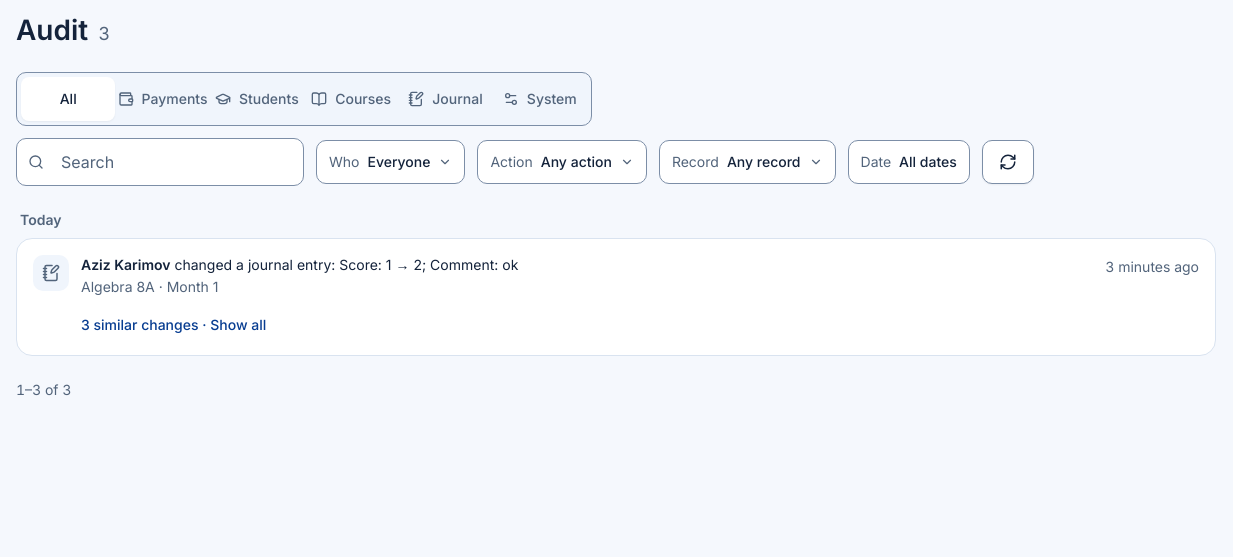
Audit duplicate grouping › shows one row with a similar-changes count and expands to every event
Check: the number of buttons "Aziz Karimov" is 1, box [21, 243, 1211, 315]
Click the button "3 similar changes · Show all". click: point(174, 325)
box: [69, 303, 278, 347]
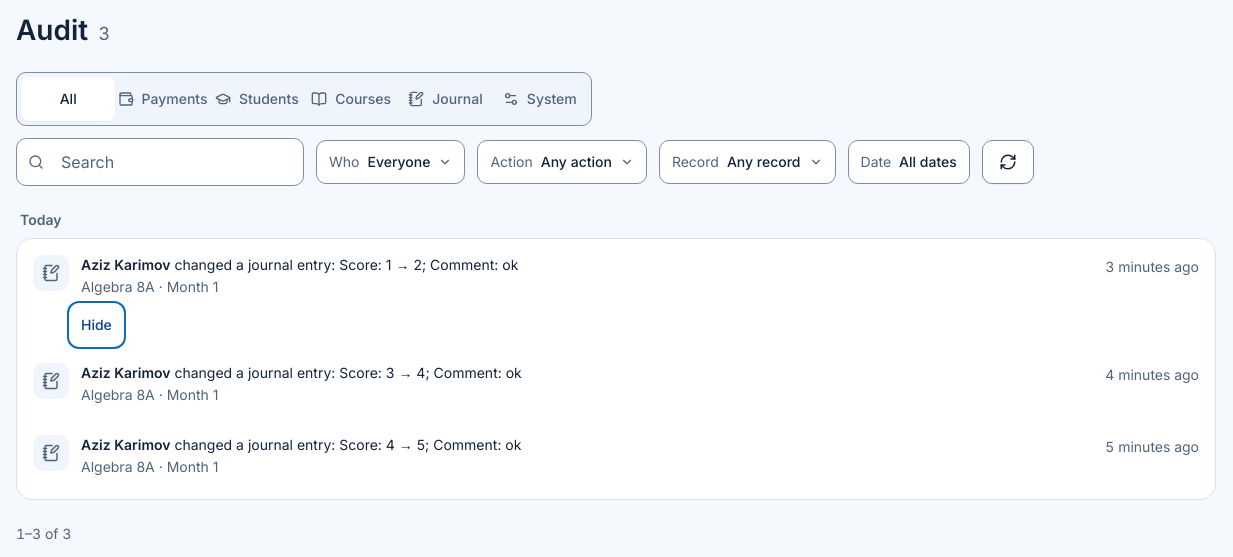
Check: the number of buttons "Aziz Karimov" is 3, box [21, 243, 1211, 315]; [21, 351, 1211, 423]; [21, 423, 1211, 495]
Click the button "Hide". click: point(96, 325)
box: [69, 303, 124, 347]
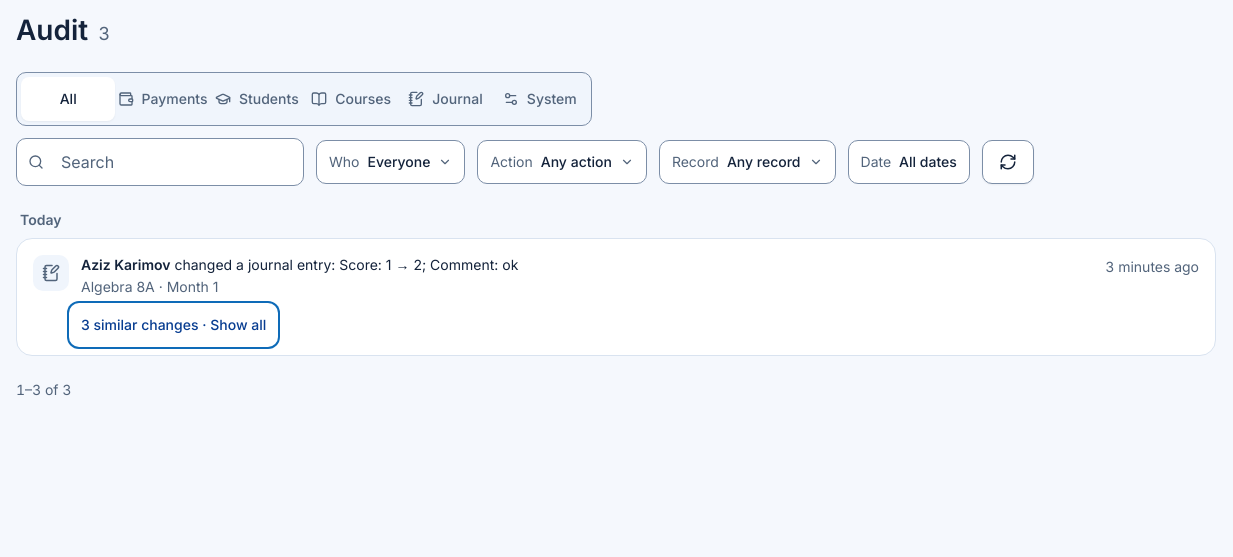
Check: the number of buttons "Aziz Karimov" is 1, box [21, 243, 1211, 315]
